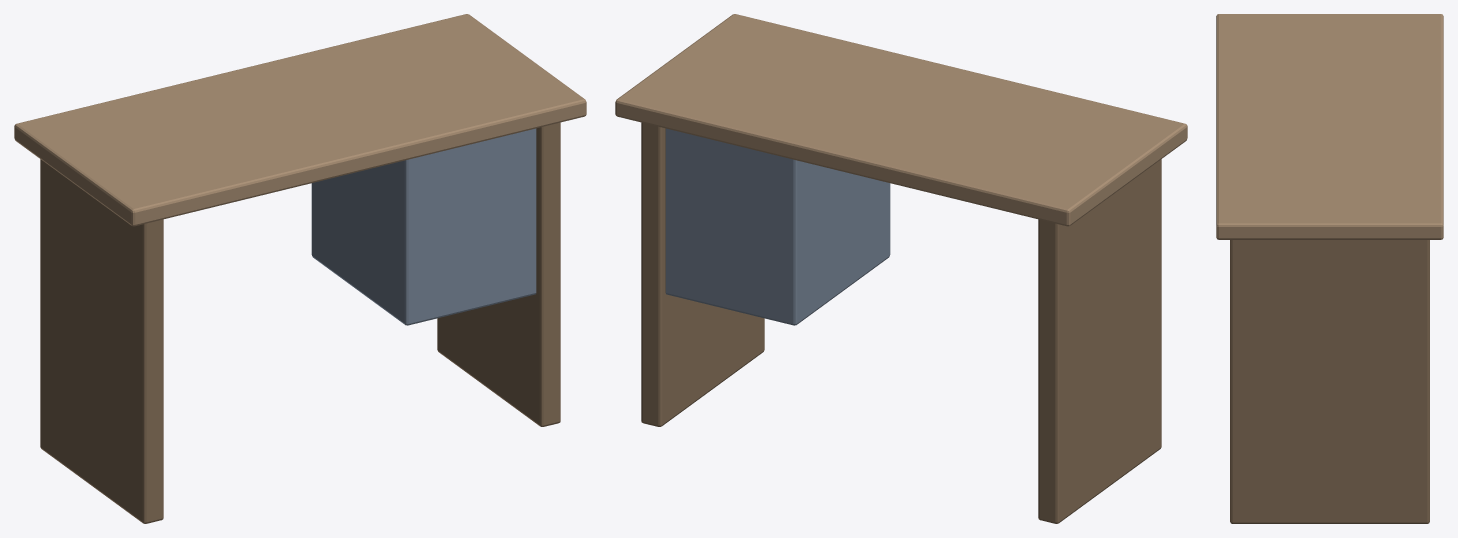
The model's file is office_escrivaninha_sala.glb.
3 renders of one model, left to right at view 1: azimuth 30°, elevation 25°; view 2: azimuth 150°, elevation 25°; view 3: azimuth 270°, elevation 25°, orthographic. The views are drawn at different scales.
Parts seen in each view (by area): view 1: OFFICE_EscrivaninhaSala_Topo, OFFICE_EscrivaninhaSala_PernaE, OFFICE_EscrivaninhaSala_Gaveteiro, OFFICE_EscrivaninhaSala_PernaD; view 2: OFFICE_EscrivaninhaSala_Topo, OFFICE_EscrivaninhaSala_PernaE, OFFICE_EscrivaninhaSala_Gaveteiro, OFFICE_EscrivaninhaSala_PernaD; view 3: OFFICE_EscrivaninhaSala_PernaD, OFFICE_EscrivaninhaSala_Topo.
Boxes of the visible parts, x1=… form: OFFICE_EscrivaninhaSala_Topo: x1=14, y1=14, x2=586, y2=226; OFFICE_EscrivaninhaSala_PernaE: x1=40, y1=159, x2=163, y2=523; OFFICE_EscrivaninhaSala_Gaveteiro: x1=311, y1=128, x2=536, y2=325; OFFICE_EscrivaninhaSala_PernaD: x1=437, y1=122, x2=560, y2=426; OFFICE_EscrivaninhaSala_Topo: x1=615, y1=14, x2=1187, y2=226; OFFICE_EscrivaninhaSala_PernaE: x1=1038, y1=159, x2=1161, y2=523; OFFICE_EscrivaninhaSala_Gaveteiro: x1=665, y1=128, x2=890, y2=325; OFFICE_EscrivaninhaSala_PernaD: x1=641, y1=122, x2=764, y2=426; OFFICE_EscrivaninhaSala_PernaD: x1=1230, y1=240, x2=1429, y2=523; OFFICE_EscrivaninhaSala_Topo: x1=1216, y1=14, x2=1443, y2=239.
Bounding box in the file's own units: 1.1 × 0.75 × 0.5.
